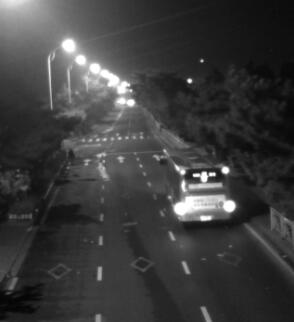bus: (155, 145, 233, 225)
